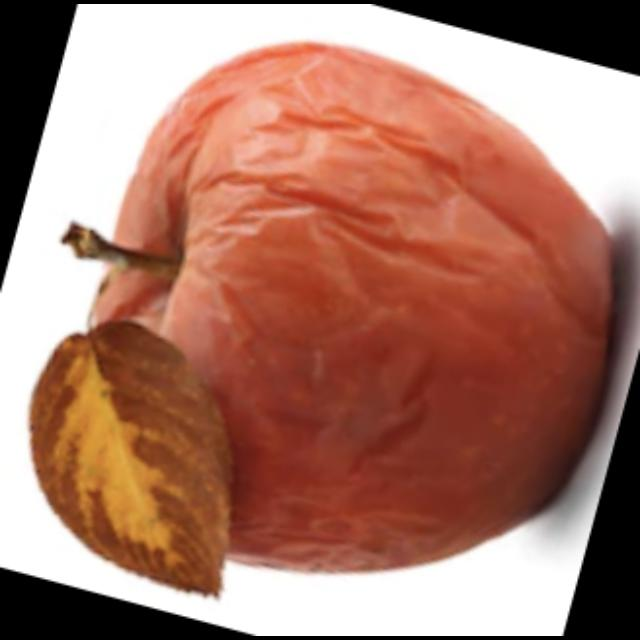Apel Tidak Segar: (78, 34, 626, 586)
